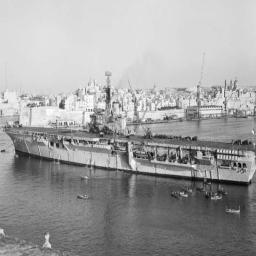Portanaves: (2, 66, 256, 188)
